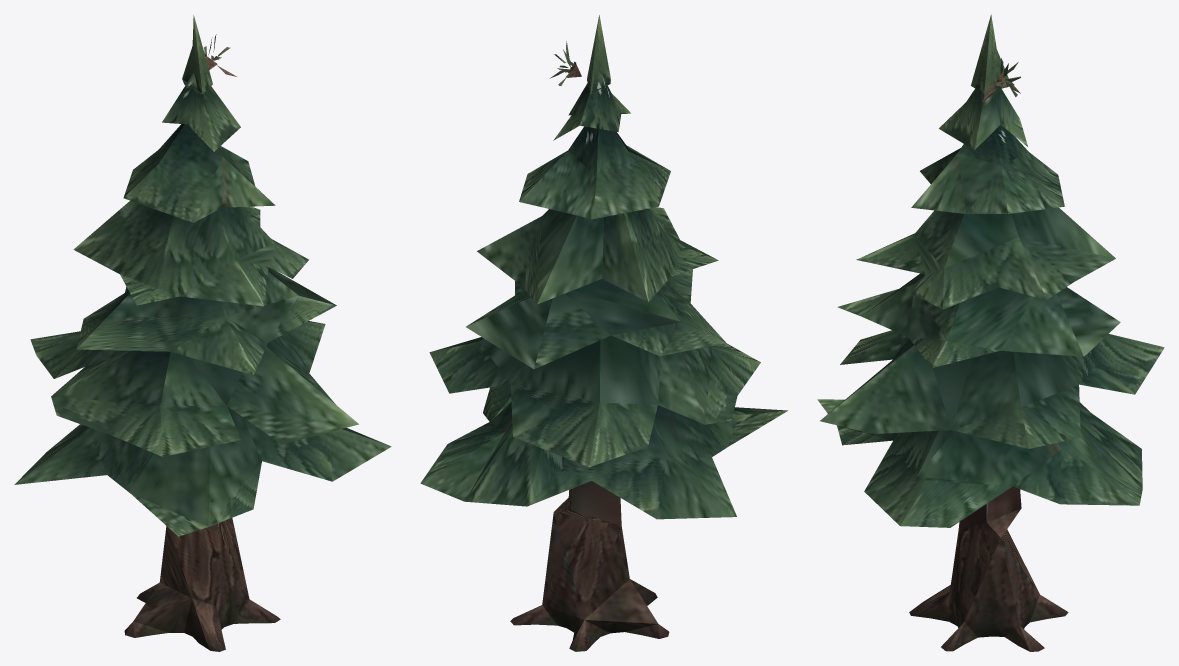
The model's file is pine.glb.
3 views of the same model, side by side, from view 1: azimuth 30°, elevation 25°; view 2: azimuth 150°, elevation 25°; view 3: azimuth 270°, elevation 25° (orthographic).
Visible parts, largest first — view 1: Mesh; view 2: Mesh; view 3: Mesh.
Boxes of the visible parts, x1,y1,x2,y2 form: Mesh: [14, 15, 391, 651]; Mesh: [420, 15, 787, 651]; Mesh: [817, 14, 1164, 651].
Size of the model in its own units: 0.5389 by 1 by 0.5204.
Materials: 1 (1 with a texture image).
